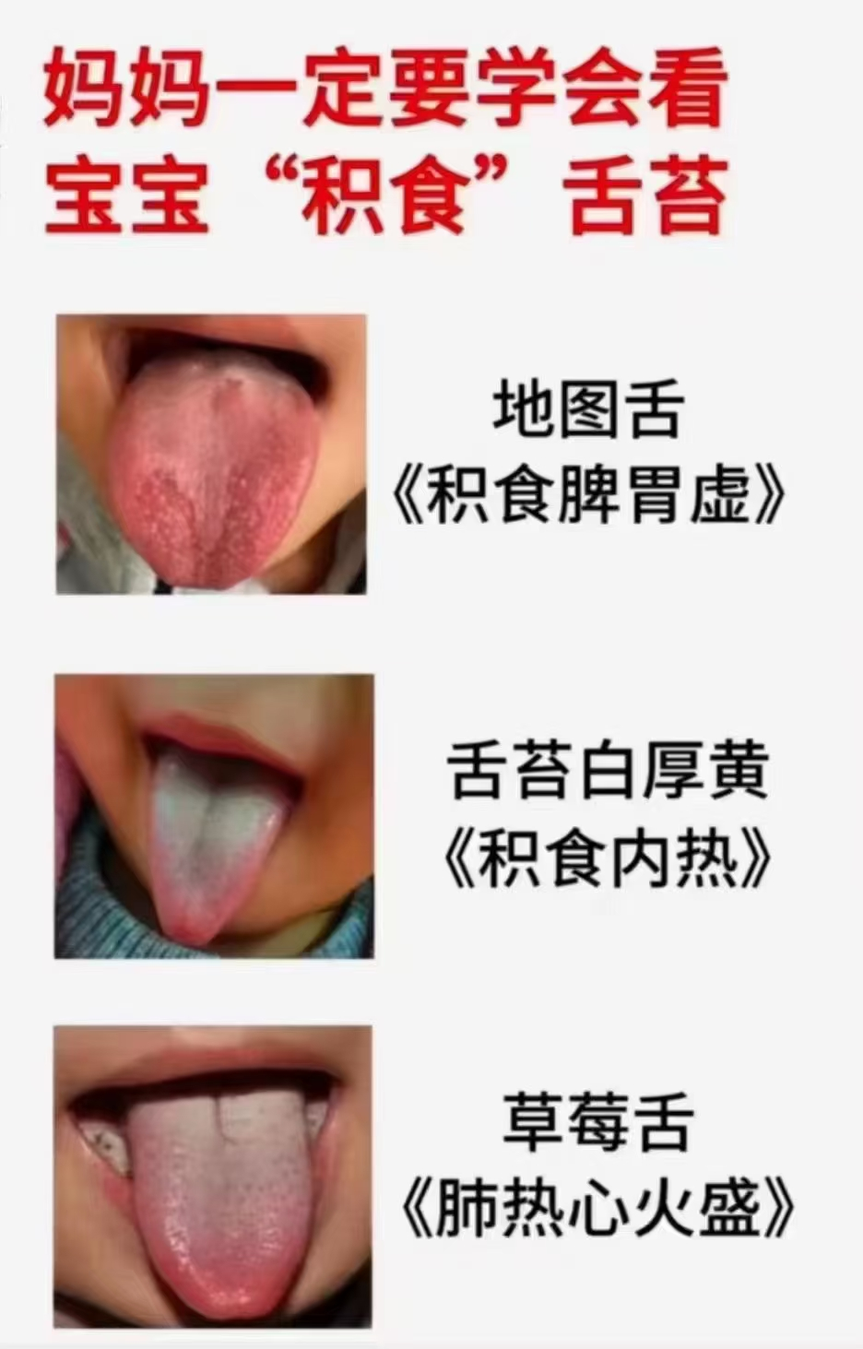baitaishe: (128, 1074, 312, 1319), (147, 754, 290, 946)
botaishe: (134, 450, 269, 572)
hongdianshe: (169, 1166, 306, 1225)
hongshe: (104, 351, 319, 591), (128, 1074, 312, 1319), (147, 753, 290, 945)
shoushe: (147, 754, 290, 946)
